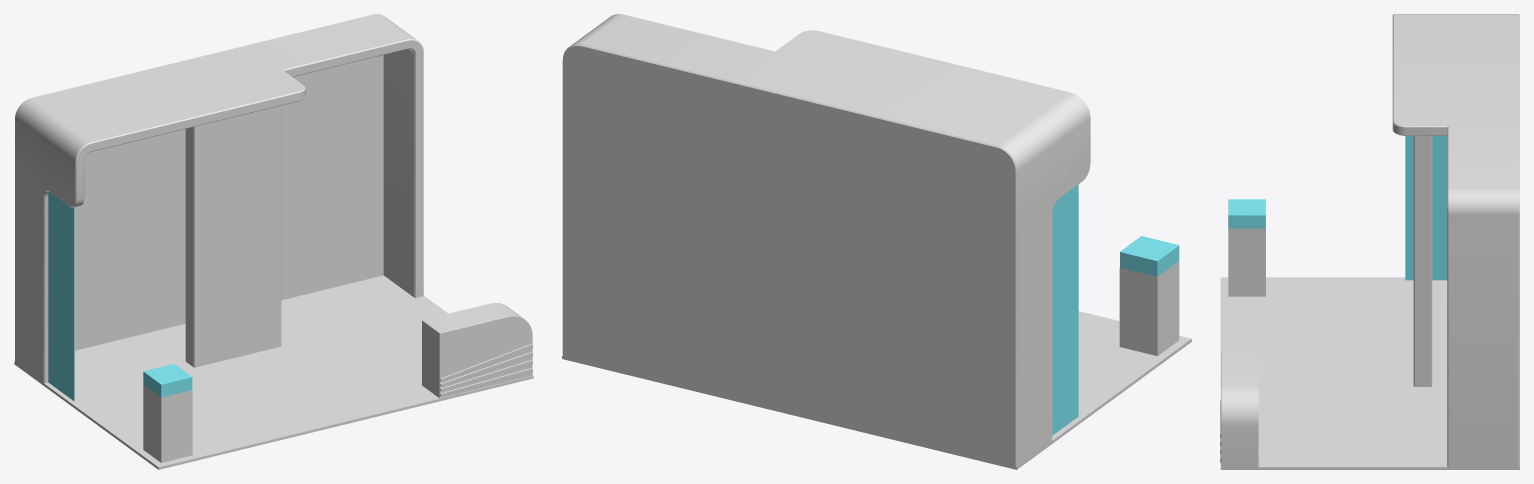
File: Stand_14.fbx
The picture shows the model from 3 angles, left to right: view 1: azimuth 30°, elevation 25°; view 2: azimuth 150°, elevation 25°; view 3: azimuth 270°, elevation 25°; orthographic projection. The views are drawn at different scales.
Parts seen in each view (by area): view 1: Stand_14, Stand_14_Table_1, Stand_14_Table_2, Stand_14_Logo_2; view 2: Stand_14, Stand_14_Table_2; view 3: Stand_14, Stand_14_Table_1, Stand_14_Table_2.
Part boxes in pixels (x1,y1,x2,y2): Stand_14: [14, 14, 533, 469]; Stand_14_Table_1: [422, 302, 532, 398]; Stand_14_Table_2: [143, 364, 192, 462]; Stand_14_Logo_2: [197, 108, 524, 364]; Stand_14: [562, 14, 1191, 469]; Stand_14_Table_2: [1119, 236, 1179, 355]; Stand_14: [1220, 14, 1519, 469]; Stand_14_Table_1: [1220, 352, 1258, 467]; Stand_14_Table_2: [1228, 199, 1265, 296].
Bounding box in the file's own units: 600 × 402 × 401.
